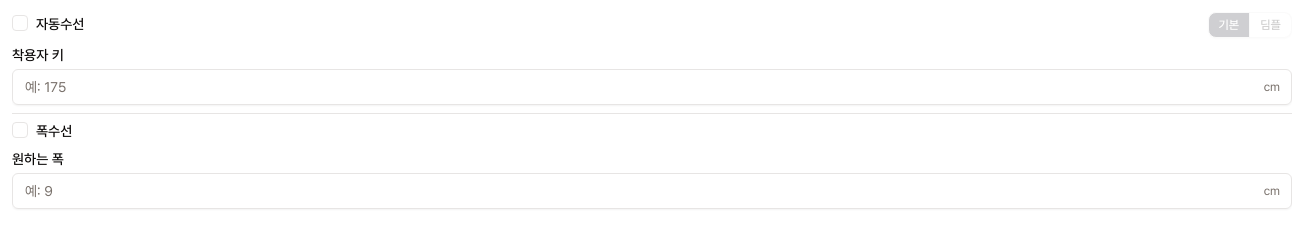
Test: BulkApplySection › 자동수선 선택 › 자동수선 해제 시 기본/딤플 세그먼트가 다시 비활성화된다
This screenshot has width=1304, height=226.
What coordinates should you click on to do the following:
click the checkbox labelled "자동수선"
I would click on:
 (60, 25)
Its box is x1=36 y1=15 x2=84 y2=35.
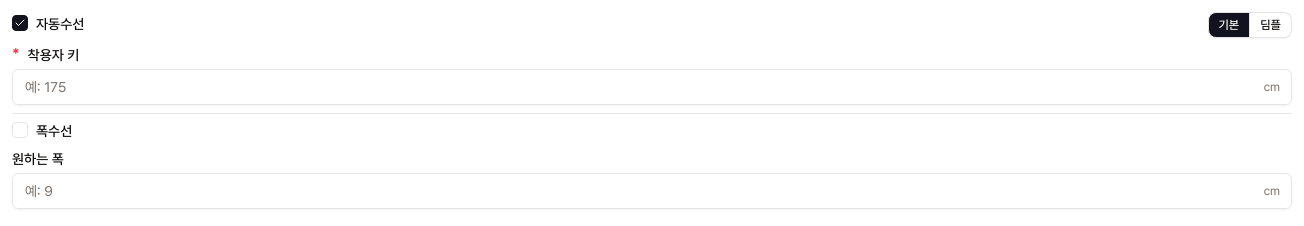
What coordinates should you click on to do the following:
click the checkbox labelled "자동수선"
I would click on:
 (60, 25)
Its box is x1=36 y1=15 x2=84 y2=35.
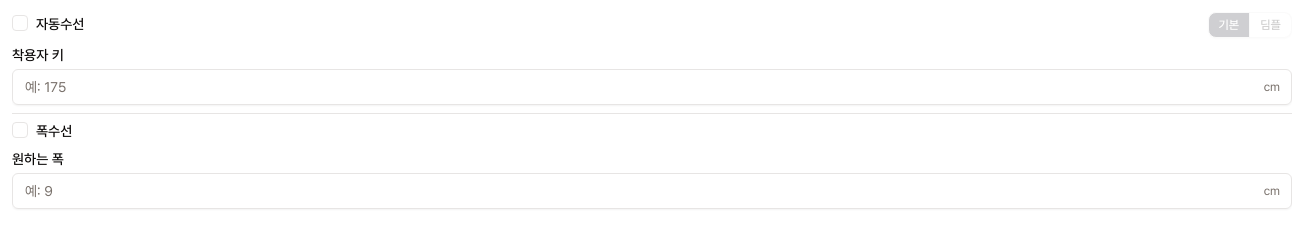
Now the radio button labelled "기본" is disabled, box x1=1208 y1=12 x2=1250 y2=38
Now the radio button labelled "딤플" is disabled, box x1=1250 y1=12 x2=1292 y2=38
